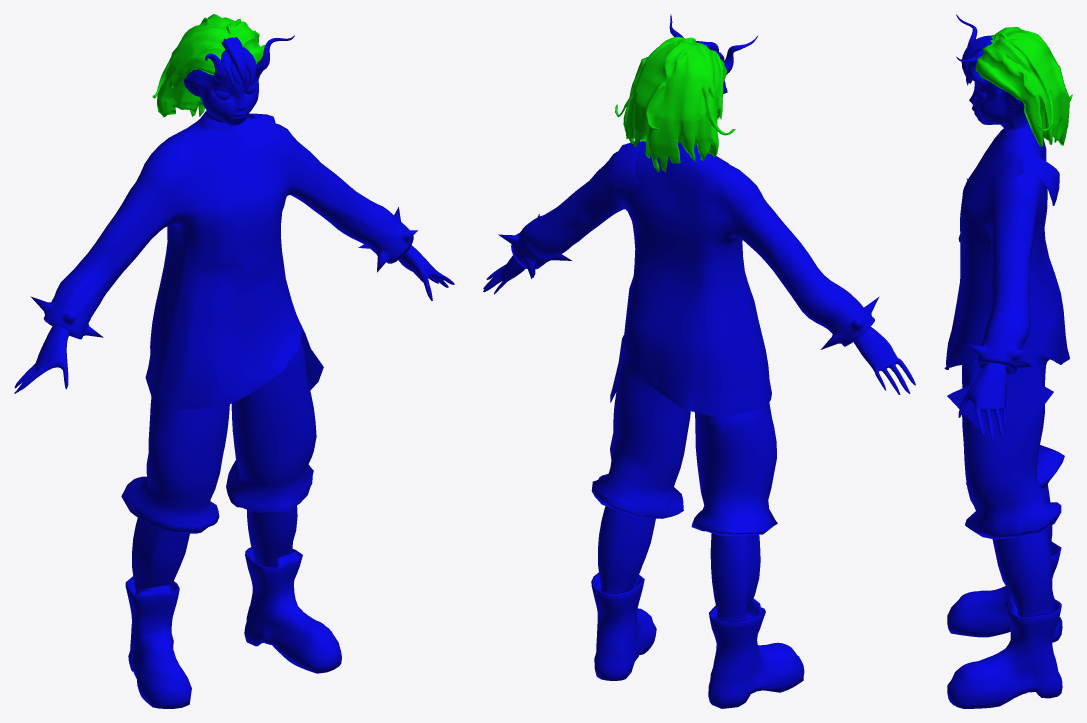
Rendered from character_lp.fbx.
3 renders of one model, left to right at view 1: azimuth 30°, elevation 25°; view 2: azimuth 150°, elevation 25°; view 3: azimuth 270°, elevation 25°, orthographic.
Visible parts, largest first — view 1: body_lp, hair_lp; view 2: body_lp, hair_lp; view 3: body_lp, hair_lp.
Part boxes in pixels (x1=…): body_lp: x1=14, y1=35, x2=454, y2=708; hair_lp: x1=152, y1=14, x2=265, y2=117; body_lp: x1=483, y1=14, x2=915, y2=708; hair_lp: x1=615, y1=37, x2=735, y2=172; body_lp: x1=944, y1=14, x2=1069, y2=708; hair_lp: x1=975, y1=27, x2=1072, y2=146.
Size of the model in its own units: 1154 by 1630 by 300.
